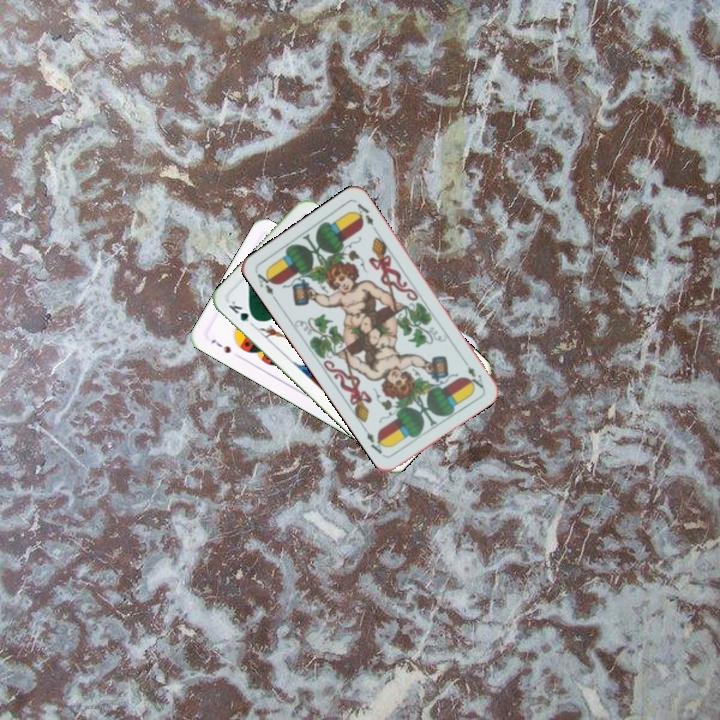EA: (252, 266, 280, 304), (459, 355, 486, 391)
GK: (224, 296, 261, 325)
S7: (207, 335, 233, 356)
